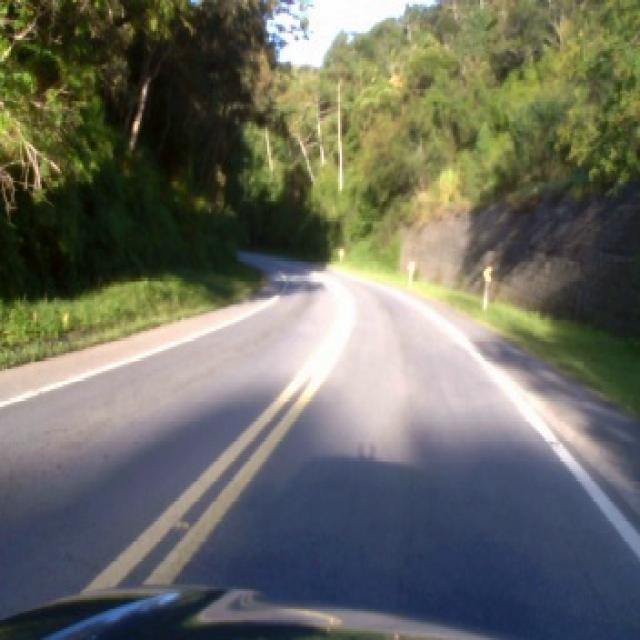Poth-hole: (175, 520, 188, 527), (547, 438, 562, 444)
